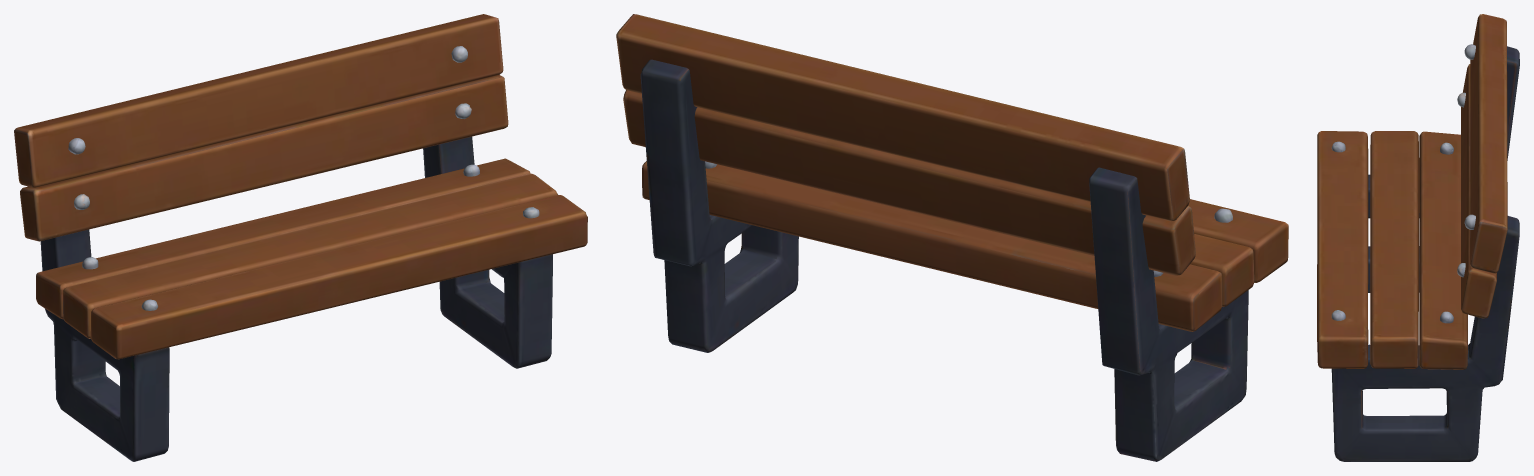
Rendered from bench.glb.
3 renders of one model, left to right at view 1: azimuth 30°, elevation 25°; view 2: azimuth 150°, elevation 25°; view 3: azimuth 270°, elevation 25°, orthographic. The views are drawn at different scales.
Parts seen in each view (by area): view 1: meshy-bench; view 2: meshy-bench; view 3: meshy-bench.
Boxes of the visible parts, x1=… form: meshy-bench: x1=14, y1=14, x2=587, y2=461; meshy-bench: x1=616, y1=14, x2=1288, y2=461; meshy-bench: x1=1317, y1=14, x2=1519, y2=461.
Bounding box in the file's own units: 1.58 × 0.9 × 0.6494.
1 material, 1 textured.
